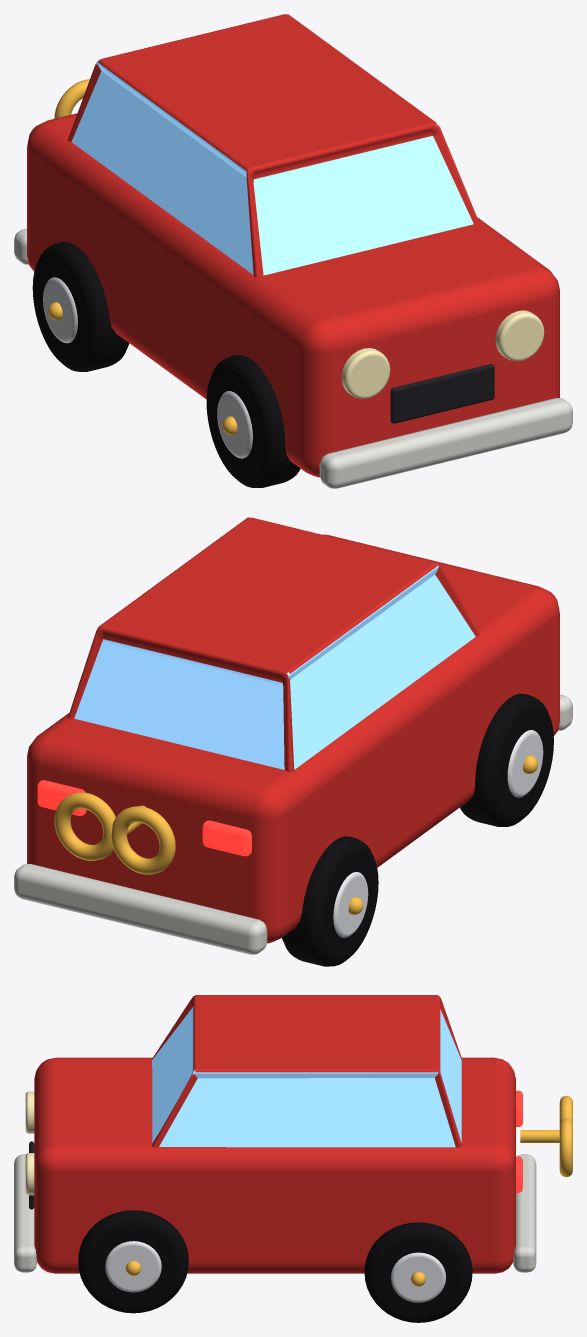
Rendered from OyuncakAraba.fbx.
The picture shows the model from 3 angles, top to bottom: view 1: azimuth 30°, elevation 25°; view 2: azimuth 150°, elevation 25°; view 3: azimuth 270°, elevation 25°; orthographic projection. The views are drawn at different scales.
Visible parts, largest first — view 1: Oyuncak_Araba_Model, Kurma_Anahtari; view 2: Oyuncak_Araba_Model, Kurma_Anahtari; view 3: Oyuncak_Araba_Model, Kurma_Anahtari.
Boxes of the visible parts, left/top/right/bottom form: Oyuncak_Araba_Model: left=14, top=14, right=572, bottom=488; Kurma_Anahtari: left=54, top=79, right=89, bottom=118; Oyuncak_Araba_Model: left=14, top=517, right=572, bottom=966; Kurma_Anahtari: left=54, top=792, right=175, bottom=874; Oyuncak_Araba_Model: left=14, top=995, right=536, bottom=1322; Kurma_Anahtari: left=520, top=1095, right=572, bottom=1177.
Size of the model in its own units: 3.34 by 2.95 by 6.32.
